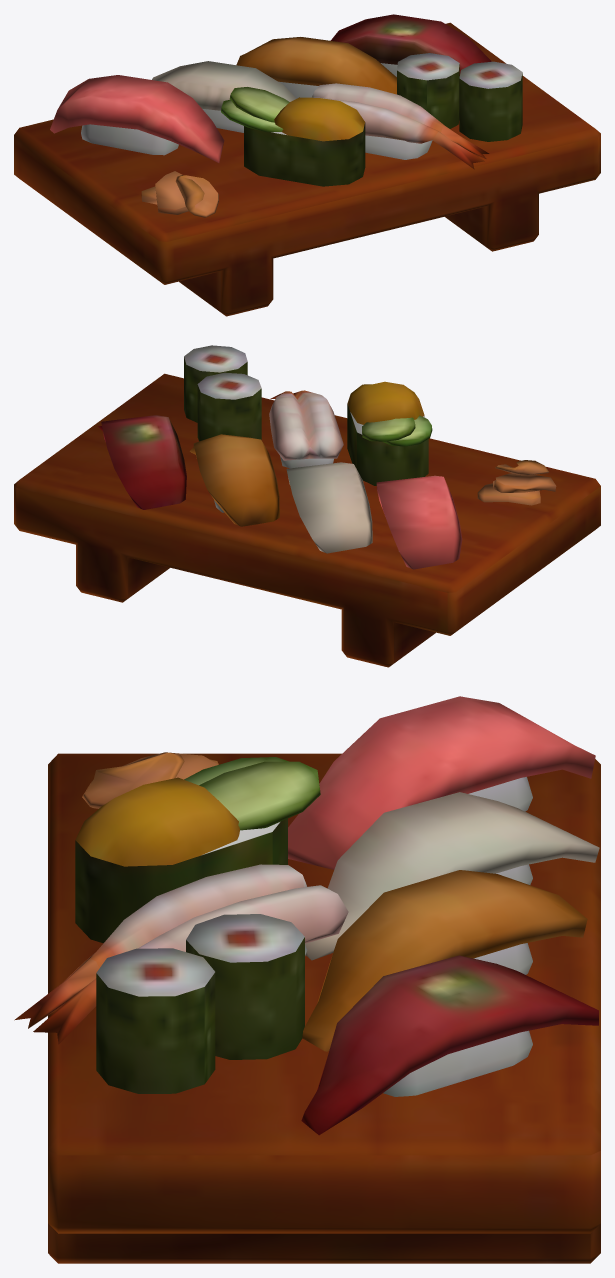
The picture shows the model from 3 angles, top to bottom: view 1: azimuth 30°, elevation 25°; view 2: azimuth 150°, elevation 25°; view 3: azimuth 270°, elevation 25°; orthographic projection. The views are drawn at different scales.
Size of the model in its own units: 8.48 by 3 by 5.32.
1 material, 1 textured.
